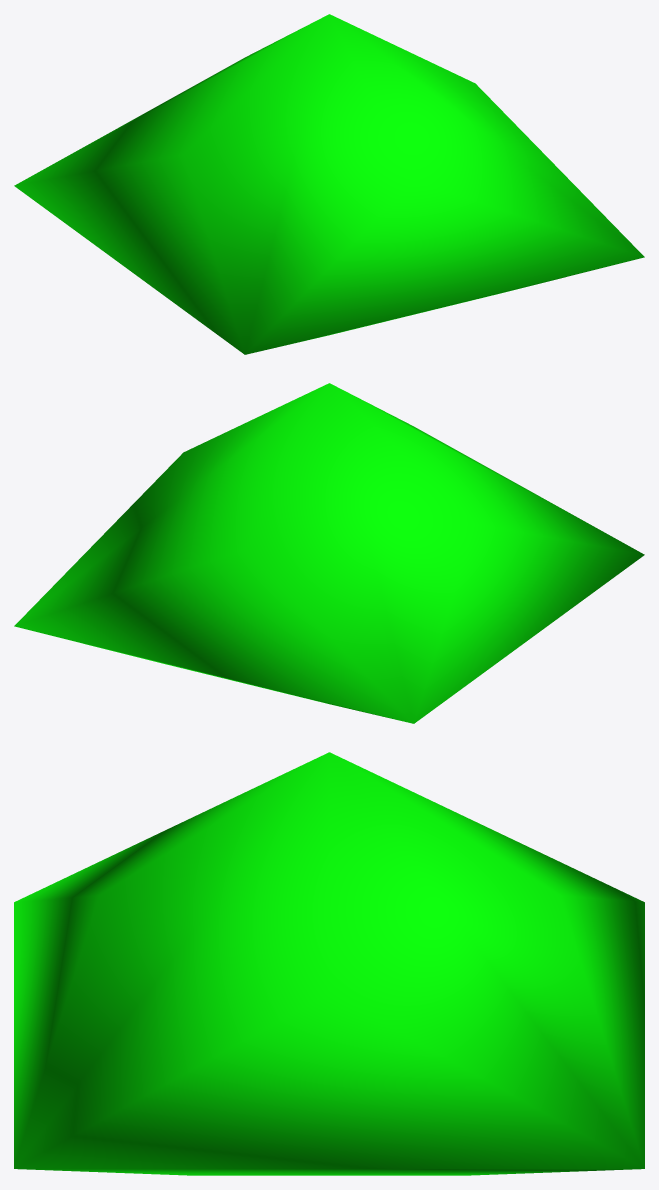
File: gems4.fbx
The picture shows the model from 3 angles, top to bottom: view 1: azimuth 30°, elevation 25°; view 2: azimuth 150°, elevation 25°; view 3: azimuth 270°, elevation 25°; orthographic projection. The views are drawn at different scales.
Parts seen in each view (by area): view 1: PrincessCut; view 2: PrincessCut; view 3: PrincessCut.
Part boxes in pixels (left/top/right/bottom): PrincessCut: left=14, top=14, right=644, bottom=354; PrincessCut: left=14, top=383, right=644, bottom=723; PrincessCut: left=14, top=752, right=644, bottom=1175.
Bounding box in the file's own units: 32.43 × 19.28 × 32.43.
